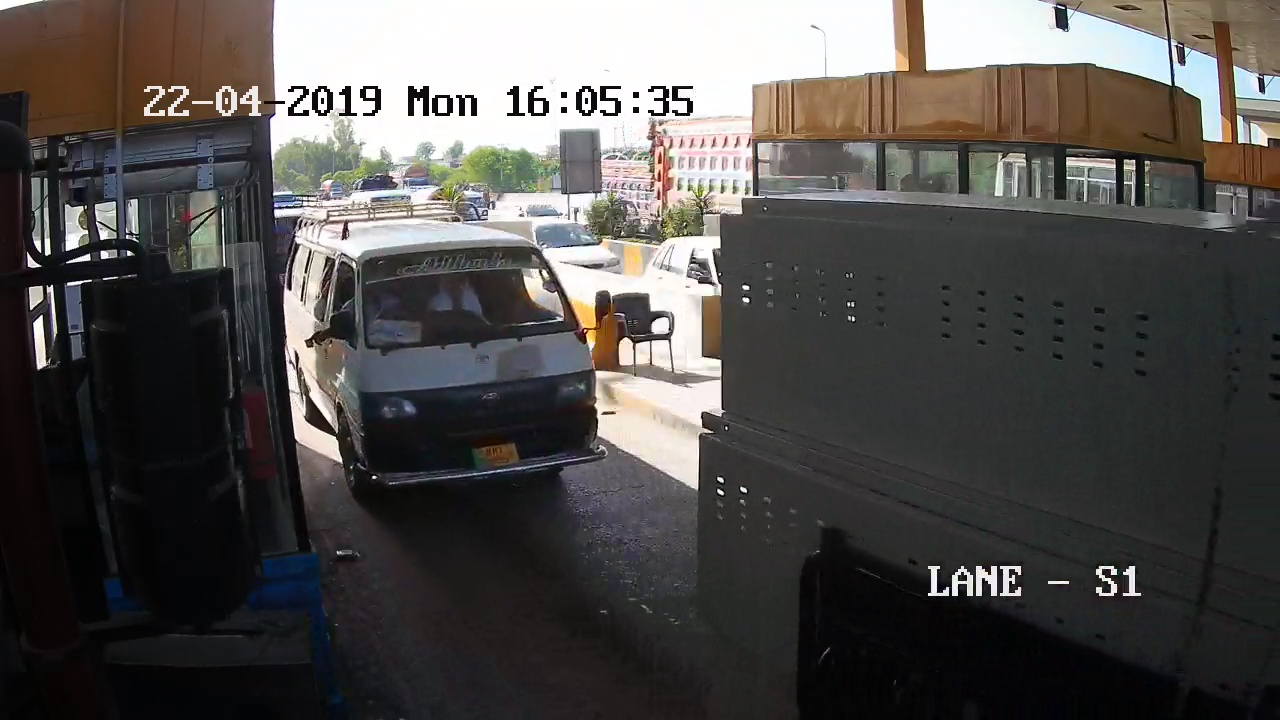Number Plate (Car): (471, 443, 521, 468)
